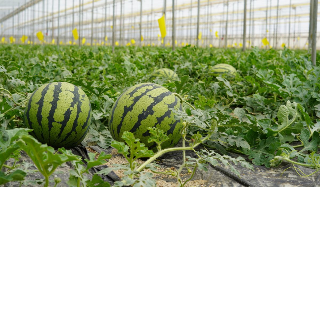dua_hau: (109, 81, 186, 157), (24, 79, 92, 150)
